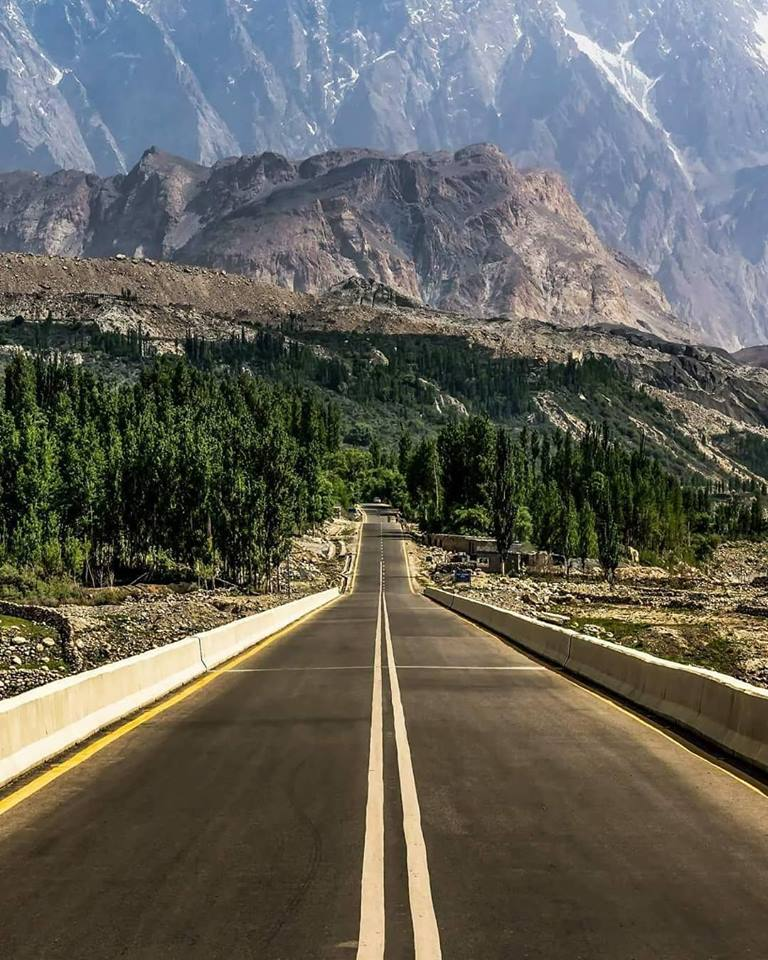straightRoad: (150, 550, 616, 960)
